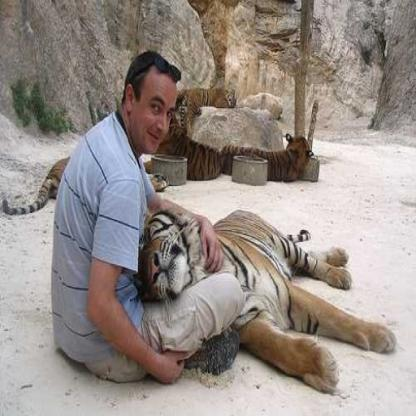Tiger: (146, 220, 416, 398)
